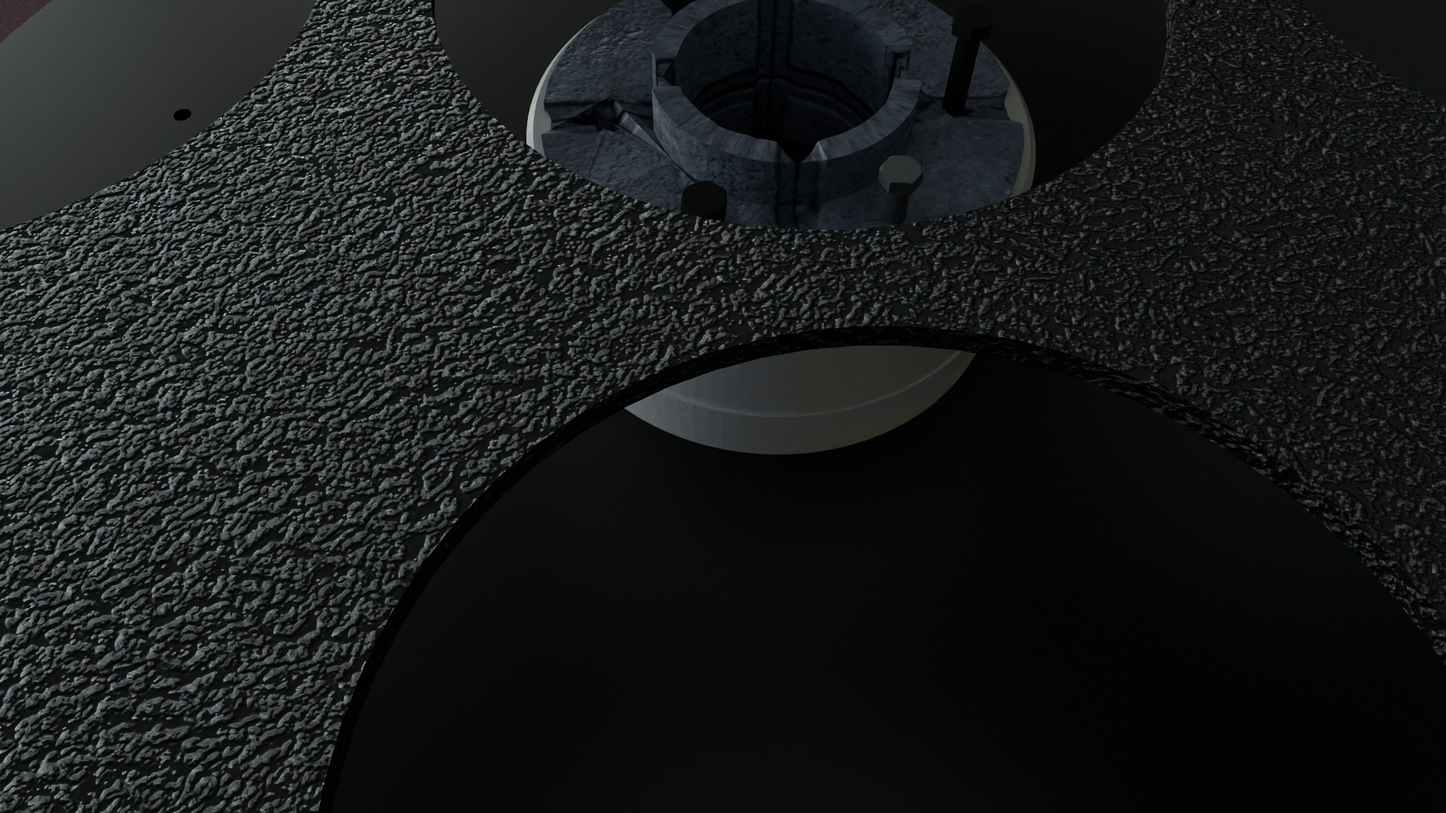bolt: (681, 181, 727, 217), (880, 156, 924, 184), (953, 3, 994, 31)
